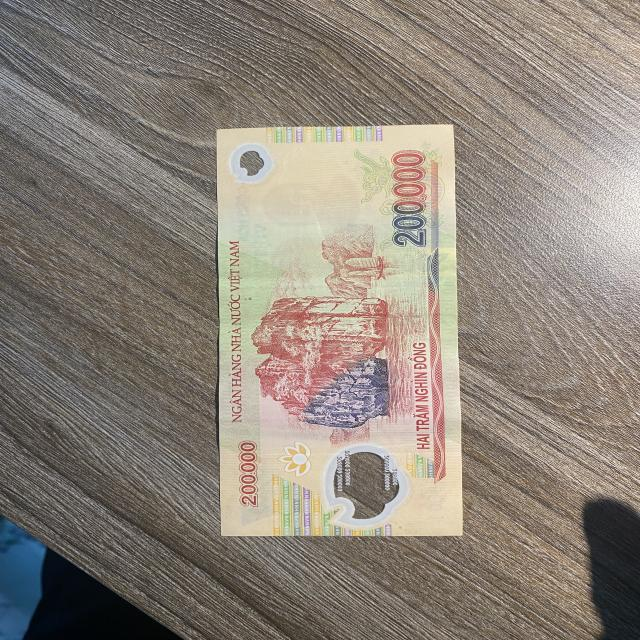200 000 VND: (214, 122, 465, 538)
